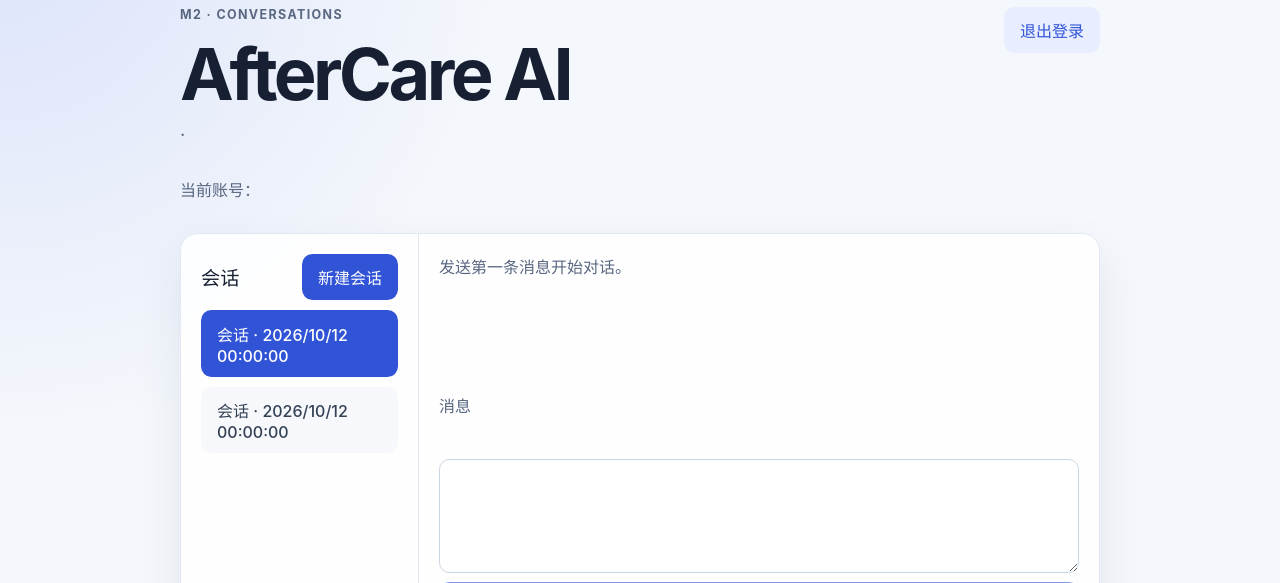
Scenario: reply lifecycle › reports an interrupted stream and permits retry
Type "Hello" into the text box labelled "消息".
click(759, 516); type("Hello")  # box [439,460,1079,573]
(page scrolled)
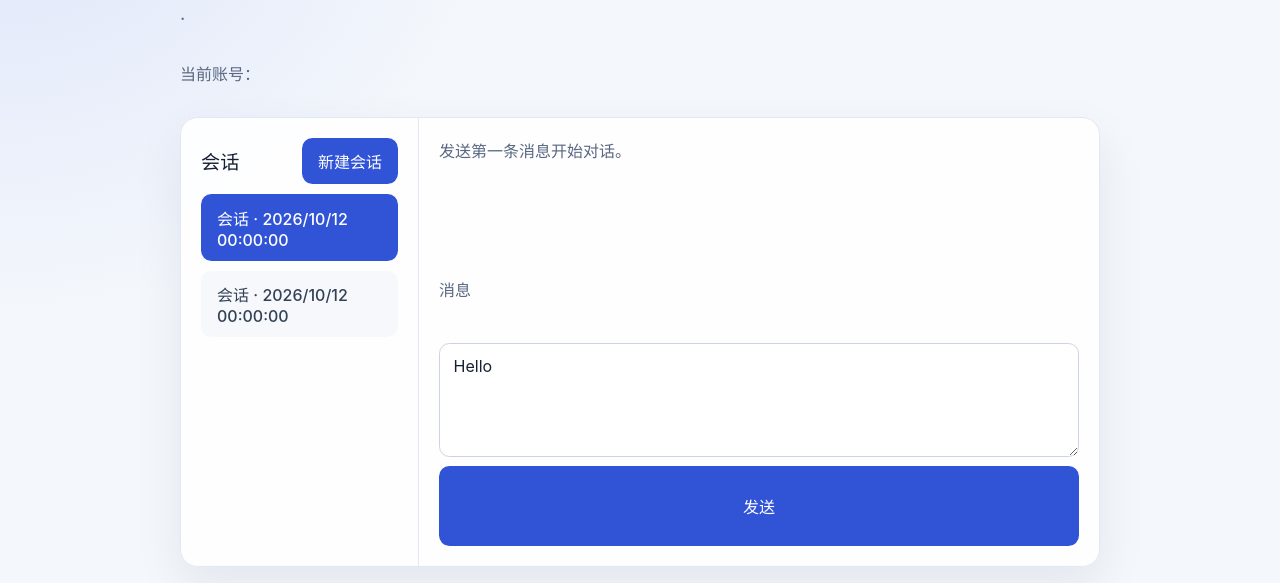
Submit the form, box [439,277,1079,546]
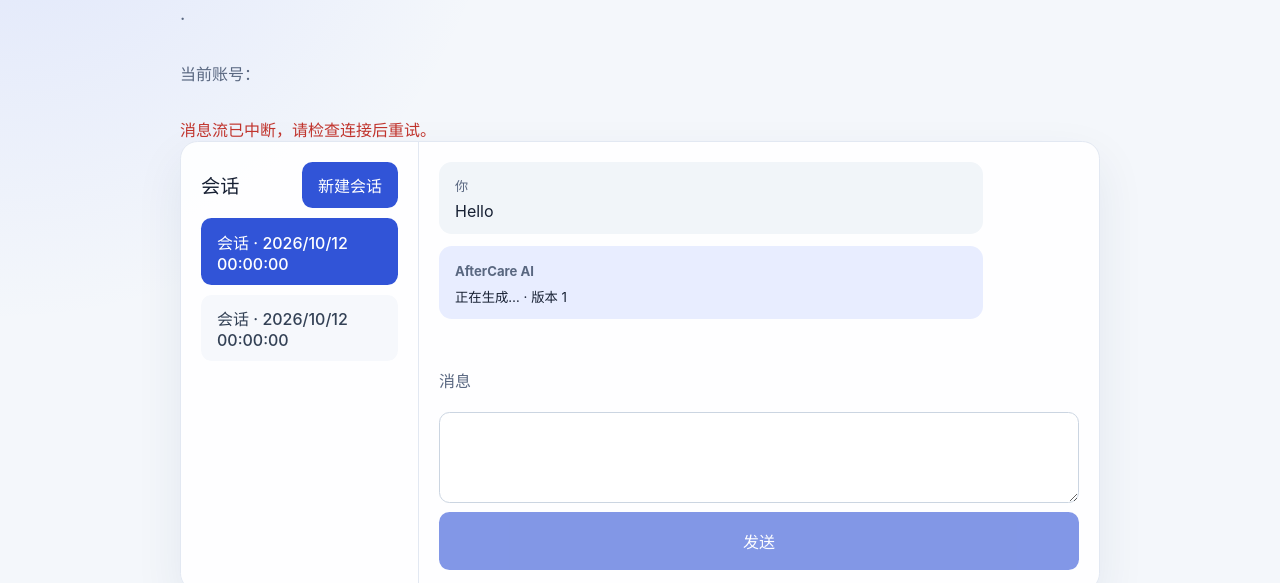
Expected: the text box labelled "消息" is enabled, [439,412,1079,503]
Now the text "消息流已中断" is shown, box [180,120,436,140]
